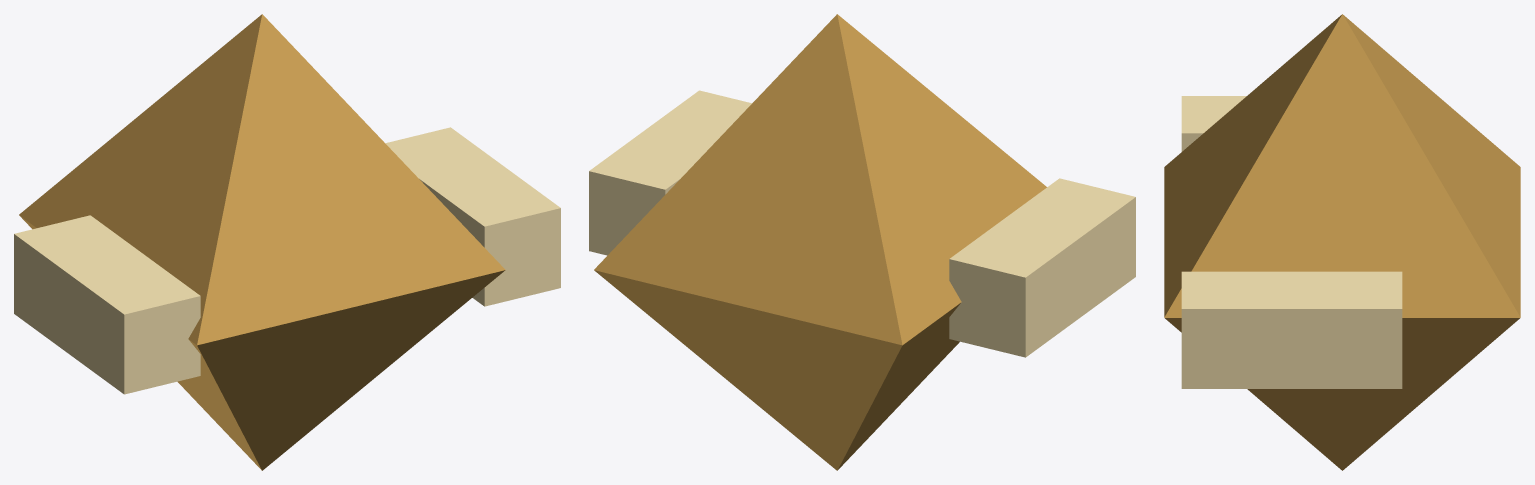
Rendered from flyer-shape-paired-pod-diamond-v1.glb.
3 renders of one model, left to right at view 1: azimuth 30°, elevation 25°; view 2: azimuth 150°, elevation 25°; view 3: azimuth 270°, elevation 25°, orthographic.
Parts seen in each view (by area): view 1: Paired-Pod Diamond; view 2: Paired-Pod Diamond; view 3: Paired-Pod Diamond.
Part boxes in pixels (box(x1,y1,x2,y2)): Paired-Pod Diamond: box(14, 14, 560, 470); Paired-Pod Diamond: box(589, 14, 1135, 470); Paired-Pod Diamond: box(1164, 14, 1520, 470).
Bounding box in the file's own units: 1.6 × 1.6 × 1.13.
